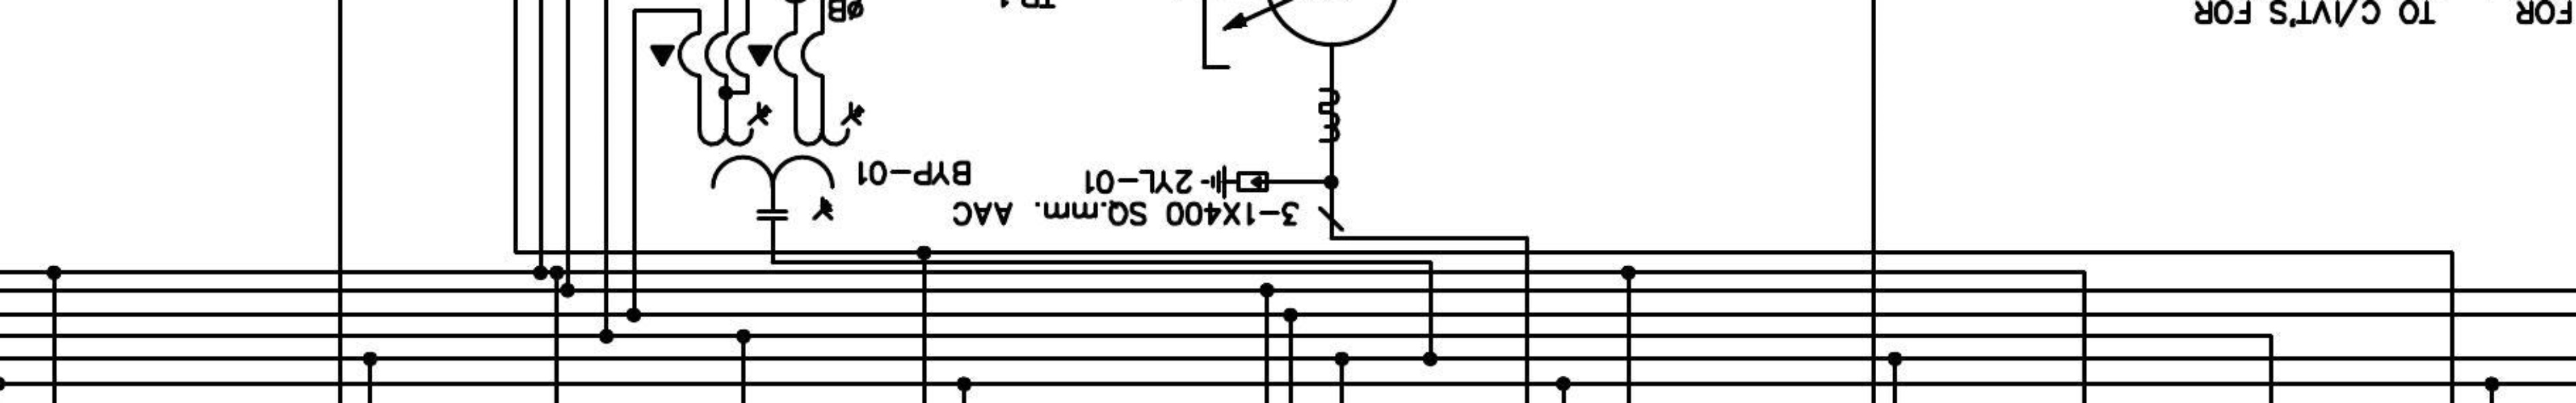115_cvt_3p: (697, 100, 866, 222)
115_la: (1201, 163, 1270, 201)
